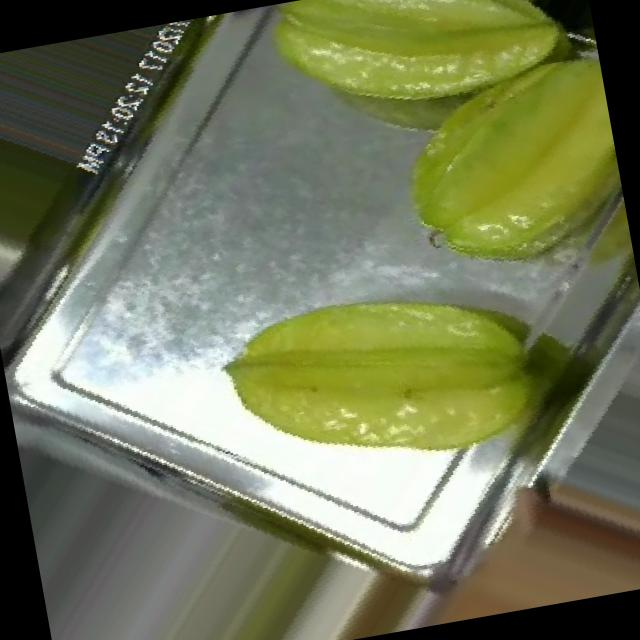fruit: (174, 186, 590, 534), (346, 6, 640, 334), (37, 437, 429, 640), (220, 0, 606, 190), (350, 424, 640, 635), (0, 48, 131, 372)
